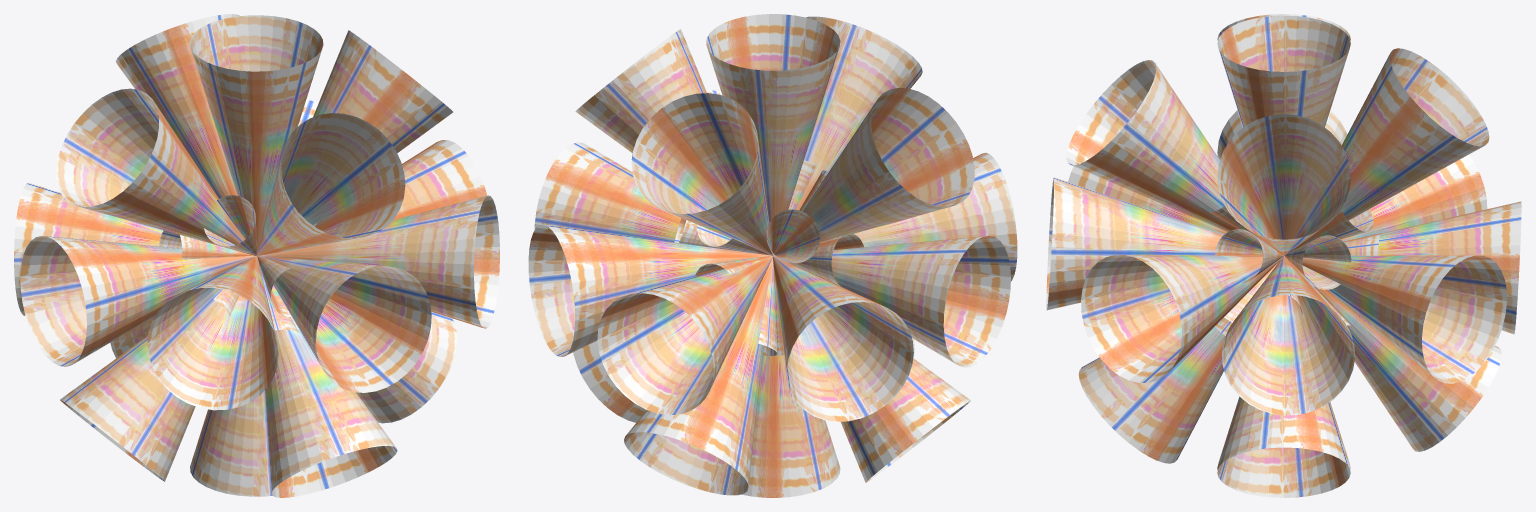
Rendered from destello.glb.
The picture shows the model from 3 angles, left to right: view 1: azimuth 30°, elevation 25°; view 2: azimuth 150°, elevation 25°; view 3: azimuth 270°, elevation 25°; orthographic projection.
Parts seen in each view (by area): view 1: Cone.016, Cone.001; view 2: Cone.016, Cone.001; view 3: Cone.016, Cone.001.
Boxes of the visible parts, <box> form: Cone.016: <box>14,14,499,497</box>; Cone.001: <box>158,192,316,333</box>; Cone.016: <box>528,14,1017,497</box>; Cone.001: <box>674,160,863,355</box>; Cone.016: <box>1046,14,1521,497</box>; Cone.001: <box>1190,206,1381,335</box>.
Size of the model in its own units: 7.05 by 7.01 by 7.12.
2 materials, 2 textured.
